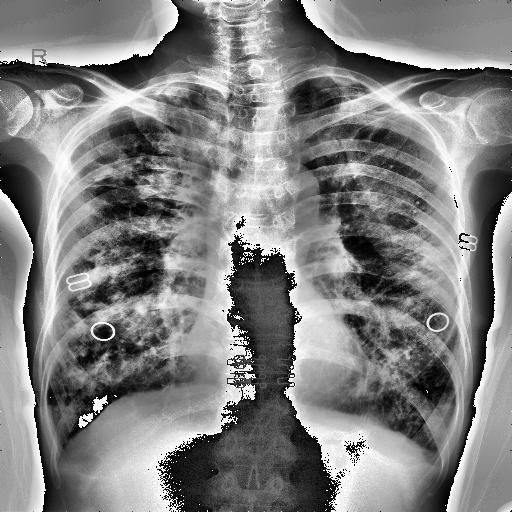10- Pleural effusion: (430, 426, 456, 486)
11- Pleural thickening: (144, 74, 210, 104), (430, 426, 456, 486), (295, 72, 364, 90), (152, 77, 206, 99), (412, 449, 443, 476)
13- Pulmonary fibrosis: (39, 88, 224, 424), (76, 80, 196, 240), (62, 250, 176, 380), (338, 289, 432, 416), (78, 160, 202, 236), (368, 330, 458, 386), (167, 98, 204, 134), (360, 109, 393, 144), (360, 114, 380, 148), (52, 446, 68, 482)
5- ILD: (332, 217, 463, 421), (62, 243, 184, 385), (78, 160, 202, 236)
6- Infiltration: (39, 88, 224, 424), (332, 217, 463, 421), (62, 243, 184, 385), (62, 250, 176, 380), (350, 191, 448, 328), (338, 289, 432, 416)
8- Nodule-Mass: (368, 330, 458, 386), (412, 208, 418, 214), (416, 190, 422, 196), (418, 191, 422, 195), (416, 201, 420, 205), (412, 209, 416, 213), (416, 200, 420, 202)
